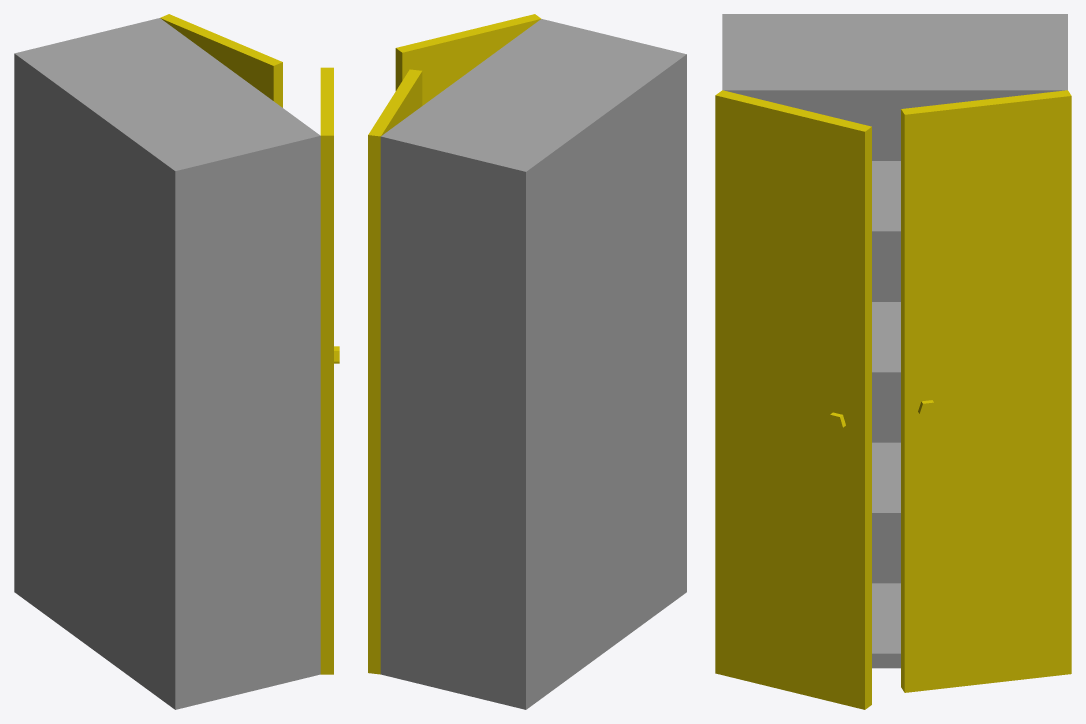
The model's file is wardrobe.fbx.
3 renders of one model, left to right at view 1: azimuth 30°, elevation 25°; view 2: azimuth 150°, elevation 25°; view 3: azimuth 270°, elevation 25°, orthographic. The views are drawn at different scales.
Visible parts, largest first — view 1: wardrobe, right_door, left_door; view 2: wardrobe, left_door, right_door; view 3: left_door, right_door, wardrobe.
Part boxes in pixels (left/top/right/bottom): wardrobe: left=14, top=18, right=320, bottom=709; right_door: left=320, top=67, right=339, bottom=674; left_door: left=160, top=14, right=282, bottom=107; wardrobe: left=380, top=19, right=686, bottom=709; left_door: left=368, top=69, right=422, bottom=674; right_door: left=395, top=14, right=541, bottom=105; left_door: left=901, top=90, right=1071, bottom=692; right_door: left=715, top=90, right=871, bottom=709; wardrobe: left=722, top=14, right=1067, bottom=668.
Size of the model in its own units: 2.29 by 5.23 by 2.92.
